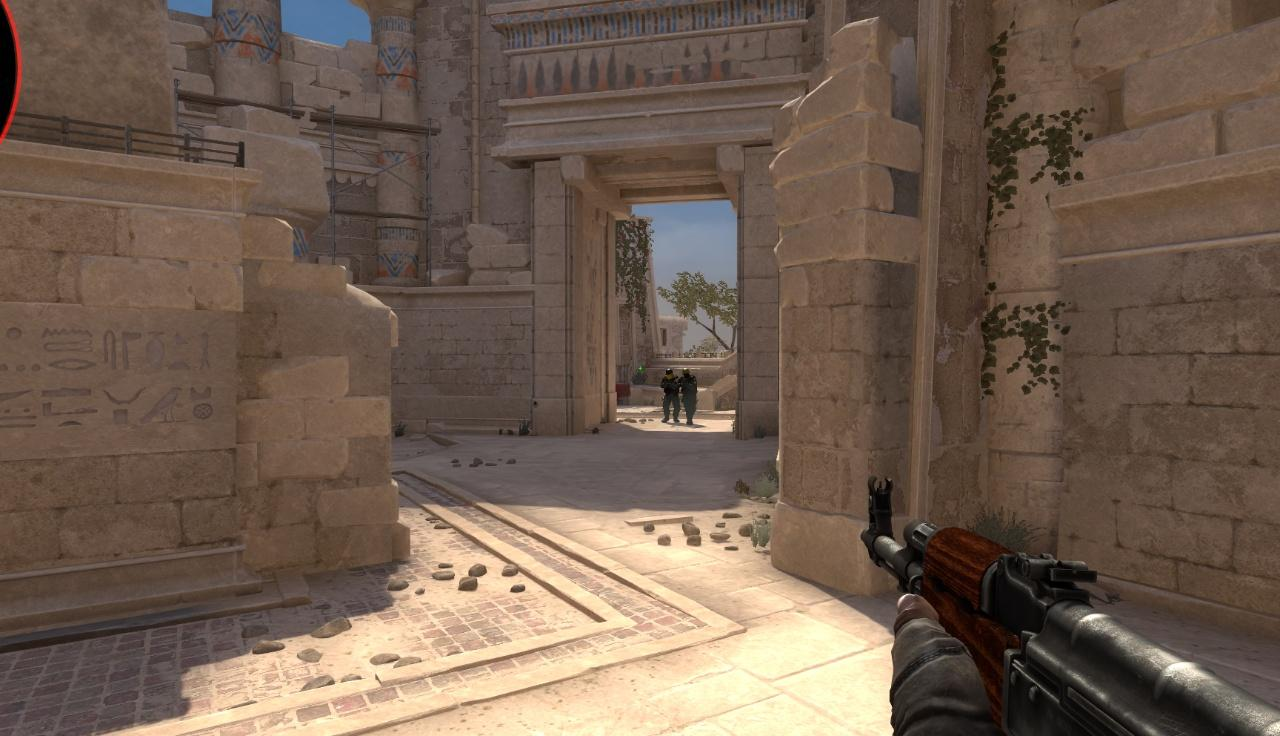ct: (677, 367, 699, 424), (660, 367, 681, 423)
cthead: (665, 368, 674, 379), (682, 367, 690, 378)
rifle: (864, 484, 1280, 732)
